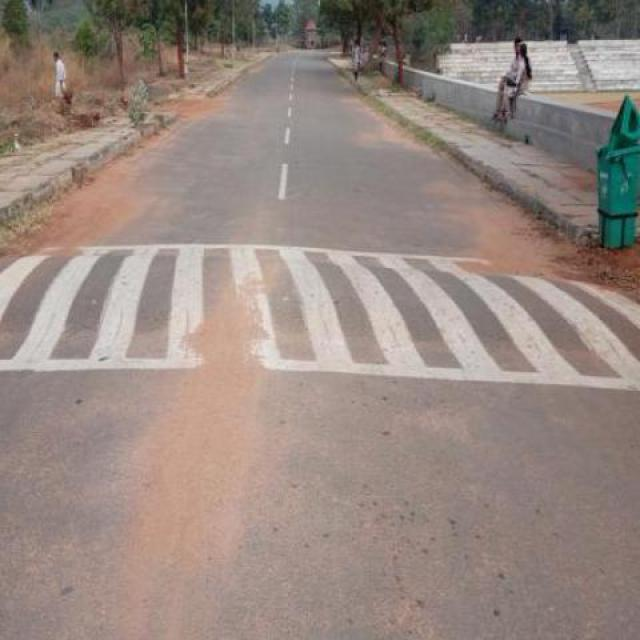Speed Bump: (0, 236, 639, 391)
